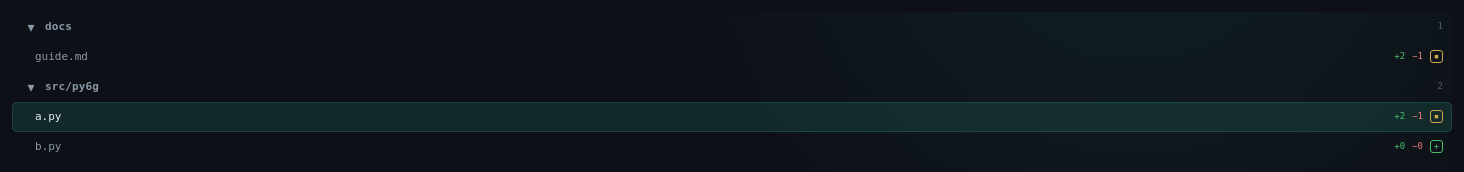
it: groups files under collapsible directories
Check: the button "a.py +2 −1 ▪" is shown, box [12,102,1452,132]
What coordinates should you click on to do the following:
click the button "▾ src/py6g 2"
I would click on:
 (72, 87)
Its box is [12,72,1452,102].
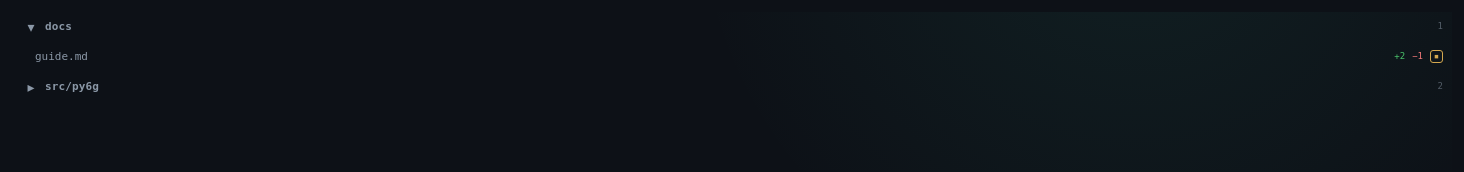
Check: the button "guide.md +2 −1 ▪" is shown, box [12,42,1452,72]
Check: the button "▸ src/py6g 2" is collapsed, box [12,72,1452,102]
Check: the button "a.py" is gone
